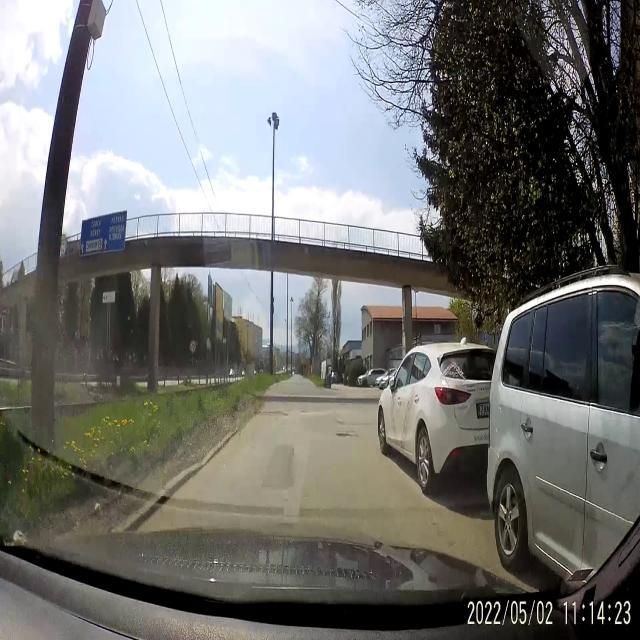Pothole: (332, 422, 365, 452), (250, 410, 292, 418), (300, 407, 308, 415)
